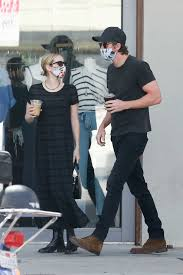mask: (99, 48, 115, 62), (51, 65, 66, 79)
